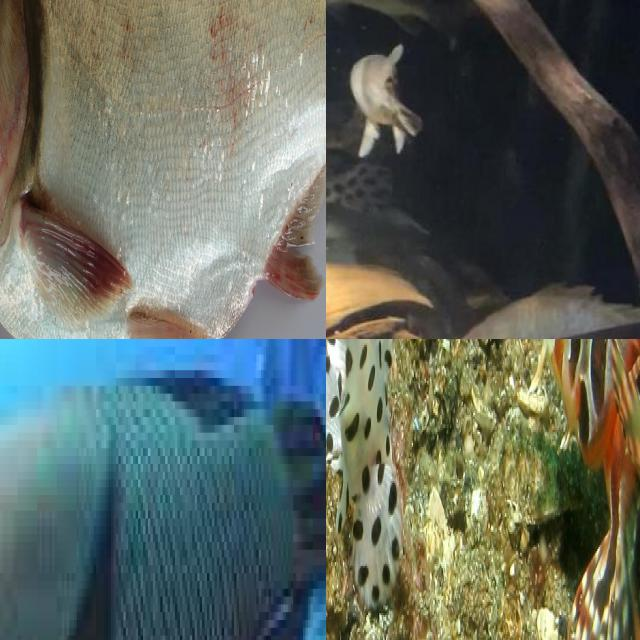fish: (0, 0, 326, 339), (0, 339, 326, 640), (460, 339, 640, 640), (347, 44, 423, 164)
